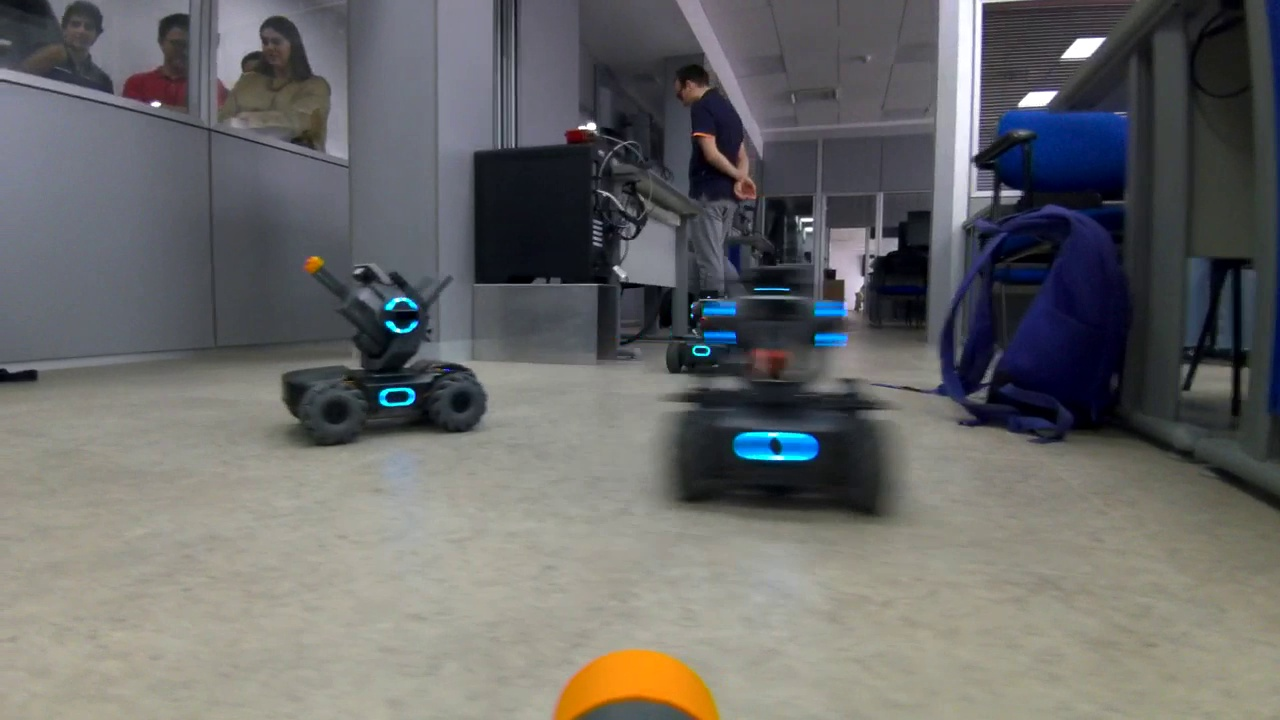robot: (642, 283, 917, 524), (257, 248, 502, 442), (662, 287, 756, 378)
